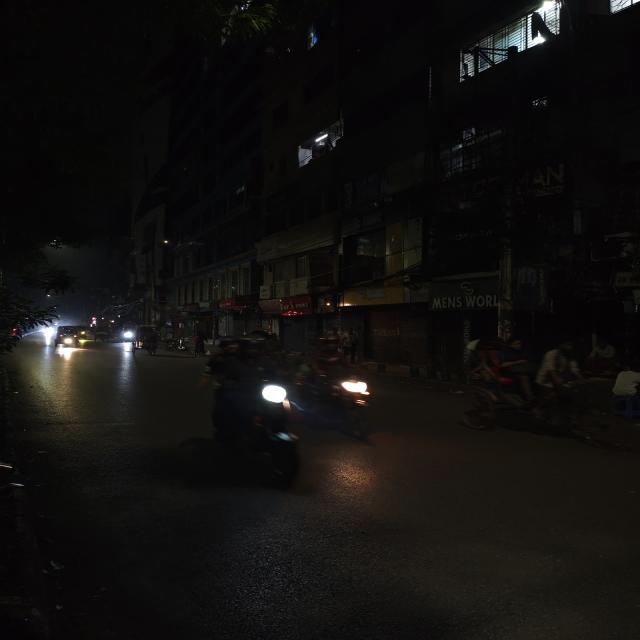bus: (578, 0, 640, 22)
cng: (56, 323, 83, 348)
motorcycle: (191, 331, 314, 479), (285, 343, 381, 437), (166, 337, 187, 351)
pedestrian: (190, 331, 207, 358)
rickshaw: (450, 327, 630, 455), (131, 324, 164, 356), (93, 329, 111, 343)
